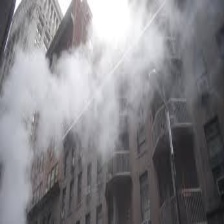smoke: (8, 60, 137, 141)
